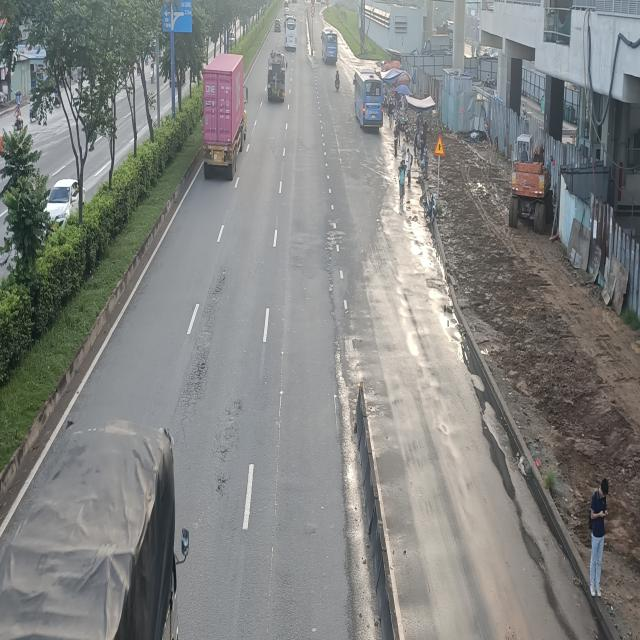coach: (353, 66, 383, 131), (321, 26, 338, 64), (284, 16, 297, 52)
container: (200, 56, 247, 182)
truck: (267, 51, 289, 103)
